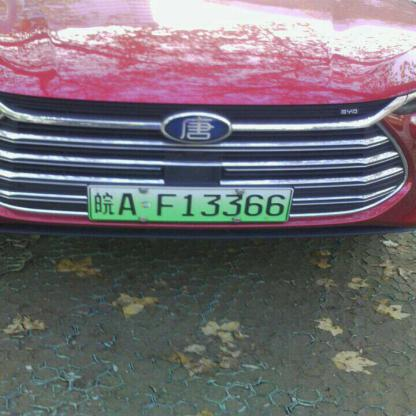lp: (90, 186, 290, 219)
